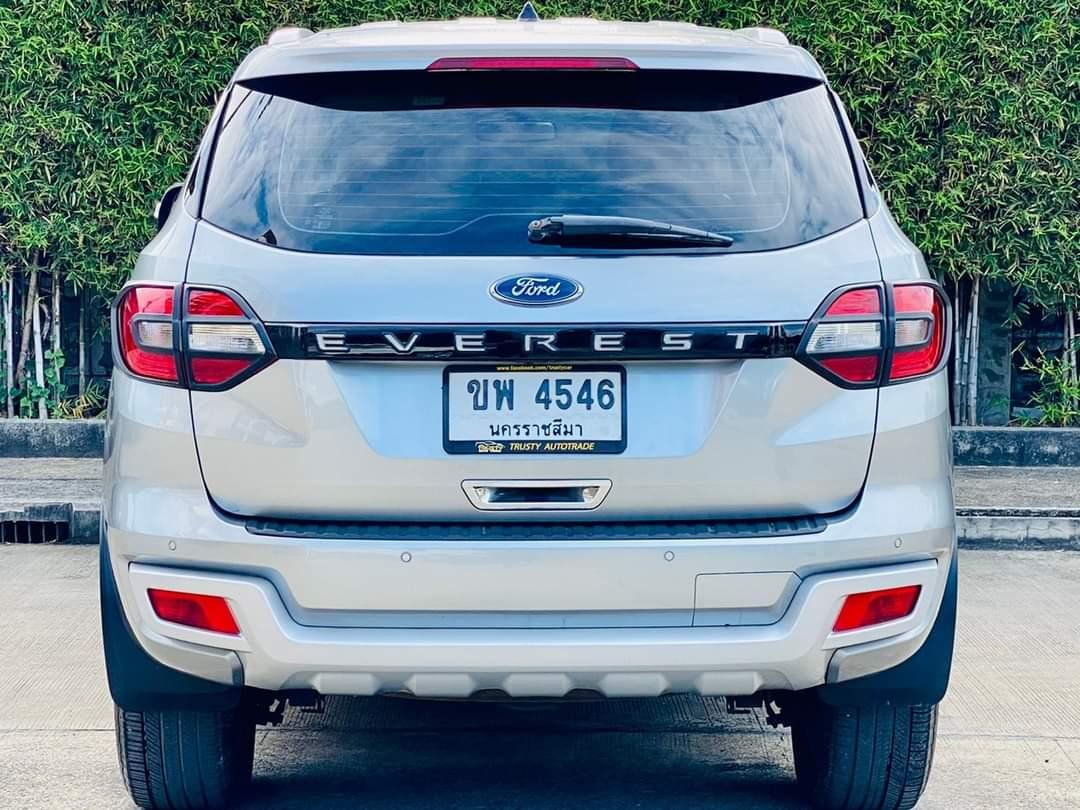license-plate: (442, 361, 628, 457)
